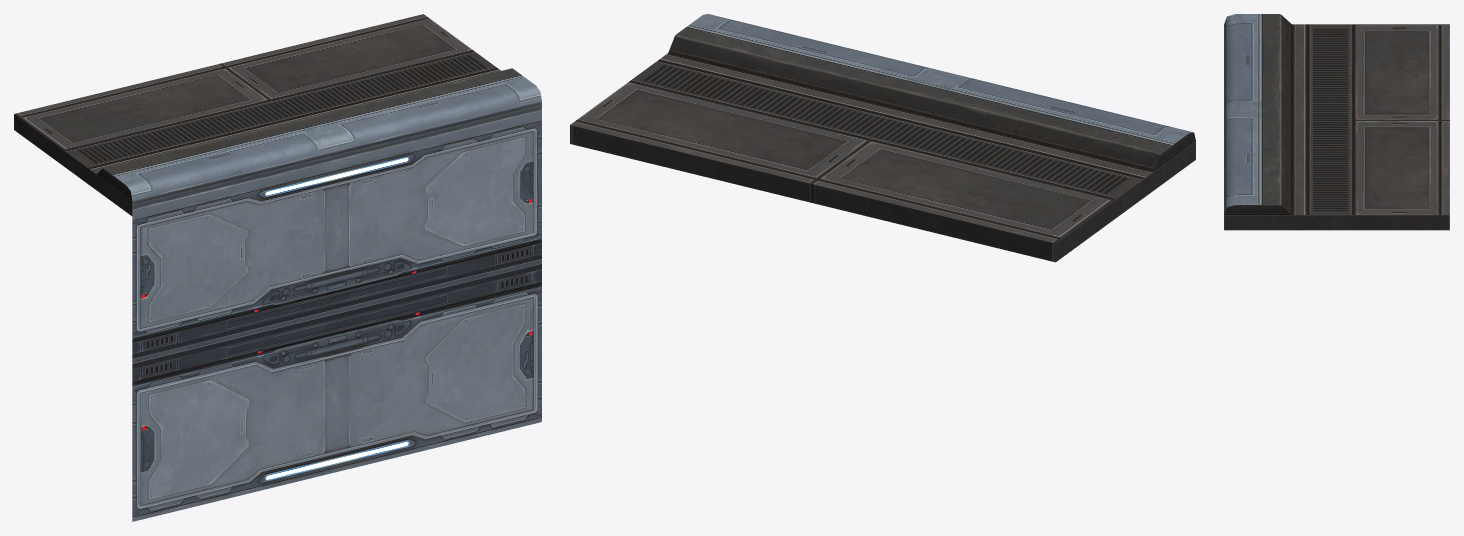
Rendered from all_arch_imp_wallset_h6m_12m_norail.glb.
3 views of the same model, side by side, from view 1: azimuth 30°, elevation 25°; view 2: azimuth 150°, elevation 25°; view 3: azimuth 270°, elevation 25° (orthographic). The views are drawn at different scales.
Visible parts, largest first — view 1: all_arch_imp_wallset_h6m_12m_norail; view 2: all_arch_imp_wallset_h6m_12m_norail; view 3: all_arch_imp_wallset_h6m_12m_norail.
Part boxes in pixels (x1=…): all_arch_imp_wallset_h6m_12m_norail: x1=14, y1=14, x2=541, y2=521; all_arch_imp_wallset_h6m_12m_norail: x1=570, y1=14, x2=1195, y2=262; all_arch_imp_wallset_h6m_12m_norail: x1=1224, y1=14, x2=1449, y2=230.
Size of the model in its own units: 0.8 by 0.62 by 0.4.
Materials: 1 (1 with a texture image).
